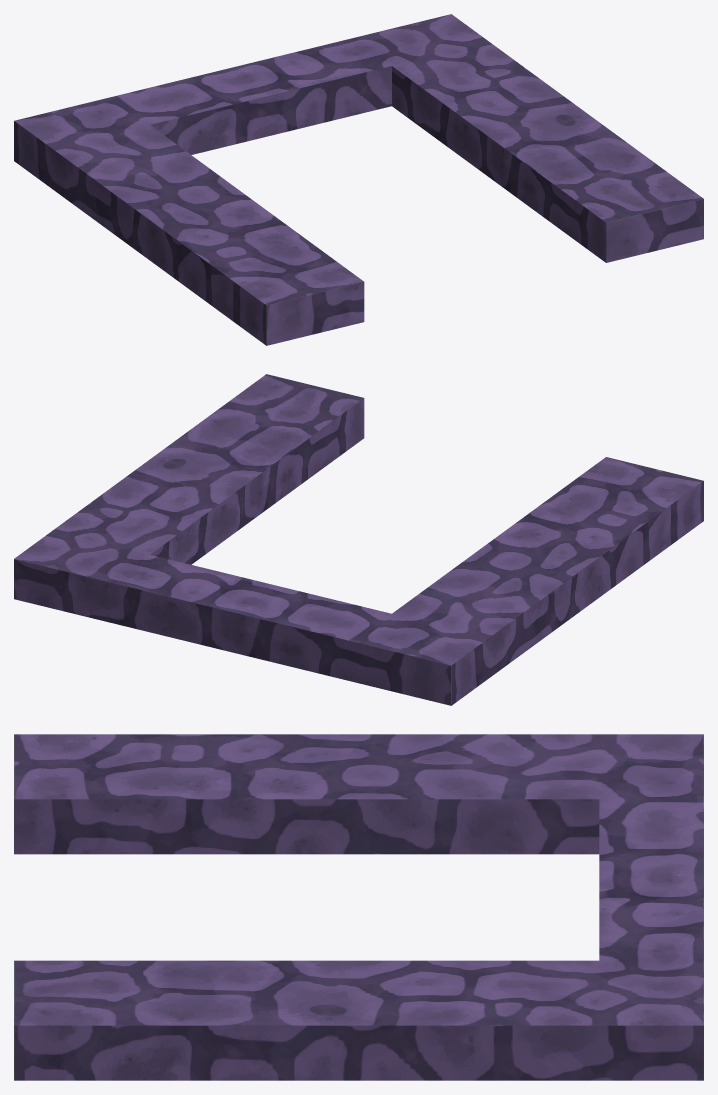
File: MTile_09b.fbx
3 renders of one model, top to bottom at view 1: azimuth 30°, elevation 25°; view 2: azimuth 150°, elevation 25°; view 3: azimuth 270°, elevation 25°, orthographic. The views are drawn at different scales.
Parts seen in each view (by area): view 1: MTile_09b; view 2: MTile_09b; view 3: MTile_09b.
Part boxes in pixels (x1,y1,x2,y2): MTile_09b: [14, 14, 703, 345]; MTile_09b: [14, 374, 703, 705]; MTile_09b: [14, 734, 703, 1080].
Bounding box in the file's own units: 255 × 22.41 × 255.
